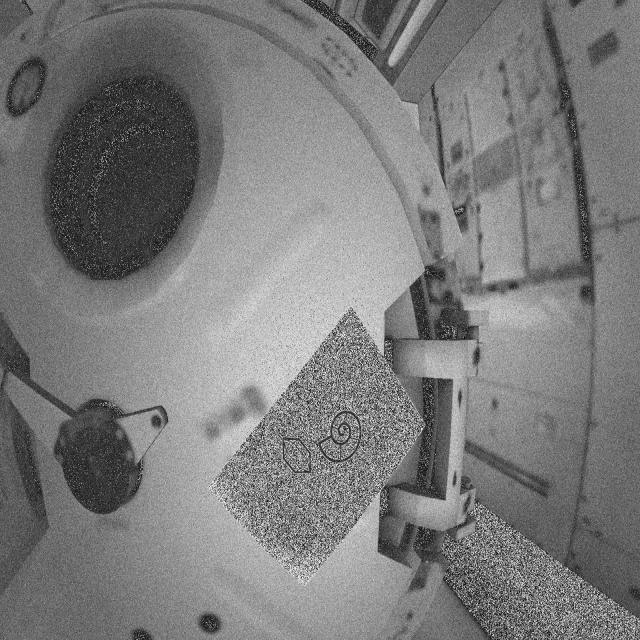crystal: (276, 433, 327, 486)
fossil: (314, 405, 373, 469)
